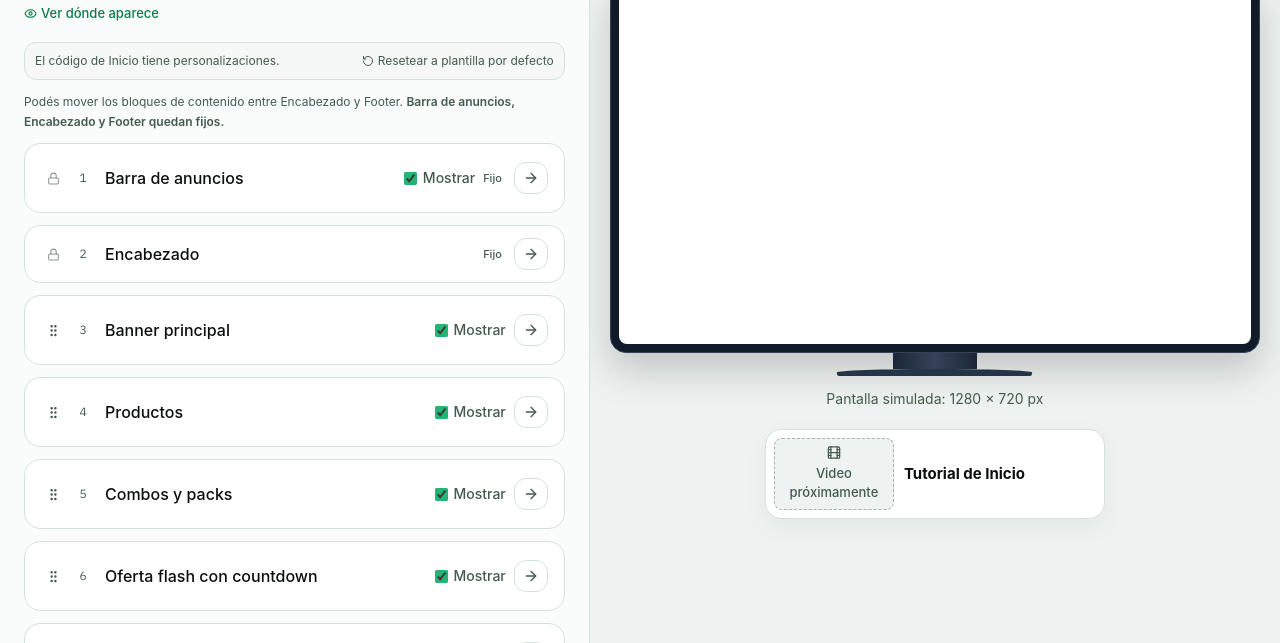
it: Borrador del editor de la tienda › avisa cuando un banner activo sigue con el texto de ejemplo
(page scrolled)
Step 1. Click the button "Banner principal" → [167, 330], box [105,318,426,342]
(page scrolled)
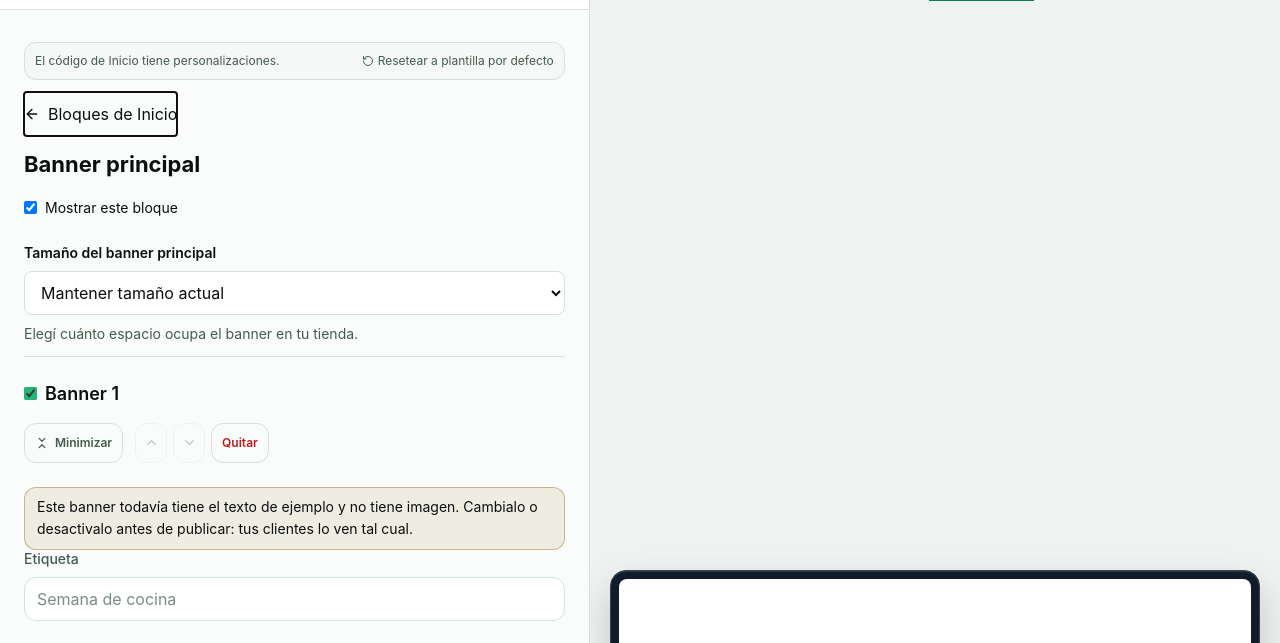
Now the text "todavía tiene el texto de ejemplo y no tiene imagen" is shown, box [24,487,565,550]
